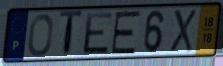6: (143, 9, 166, 54)
E: (109, 9, 143, 56), (82, 11, 115, 56)
O: (27, 13, 55, 58)
T: (58, 9, 84, 59)
X: (168, 8, 198, 54)
